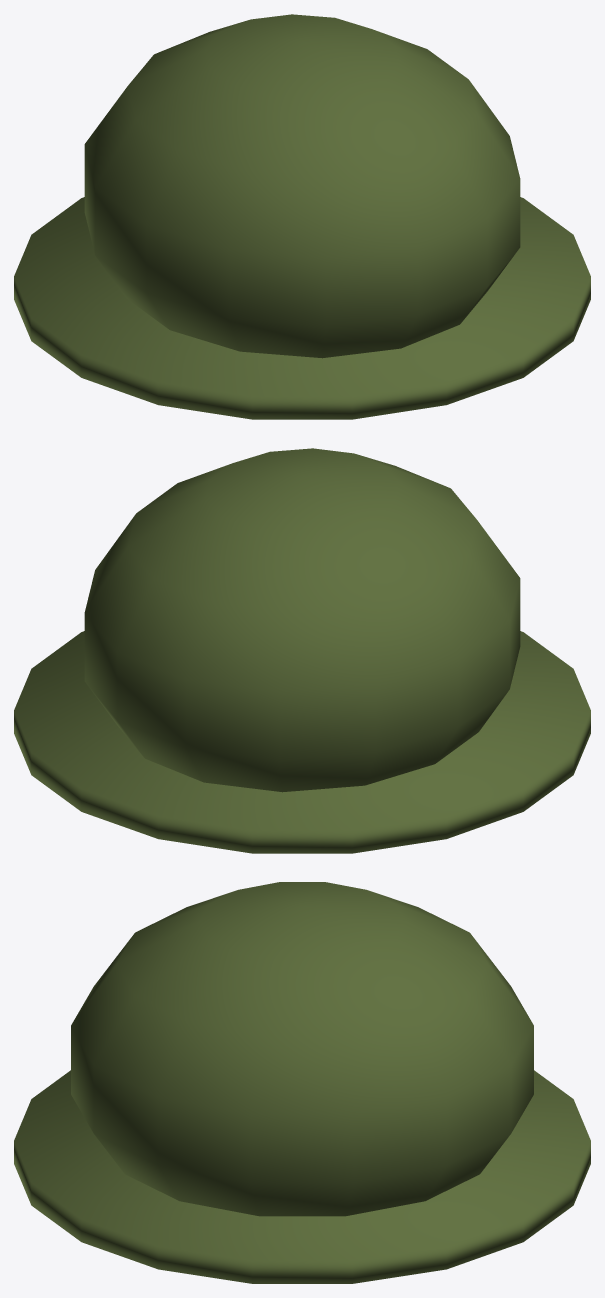
Rendered from helmet_army.glb.
The picture shows the model from 3 angles, top to bottom: view 1: azimuth 30°, elevation 25°; view 2: azimuth 150°, elevation 25°; view 3: azimuth 270°, elevation 25°; orthographic projection.
Visible parts, largest first — view 1: helmet_army; view 2: helmet_army; view 3: helmet_army.
Boxes of the visible parts, x1,y1,x2,y2 form: helmet_army: (14,14,590,419); helmet_army: (14,448,590,853); helmet_army: (14,882,590,1283).
Bounding box in the file's own units: 0.6697 × 0.4 × 0.68.
